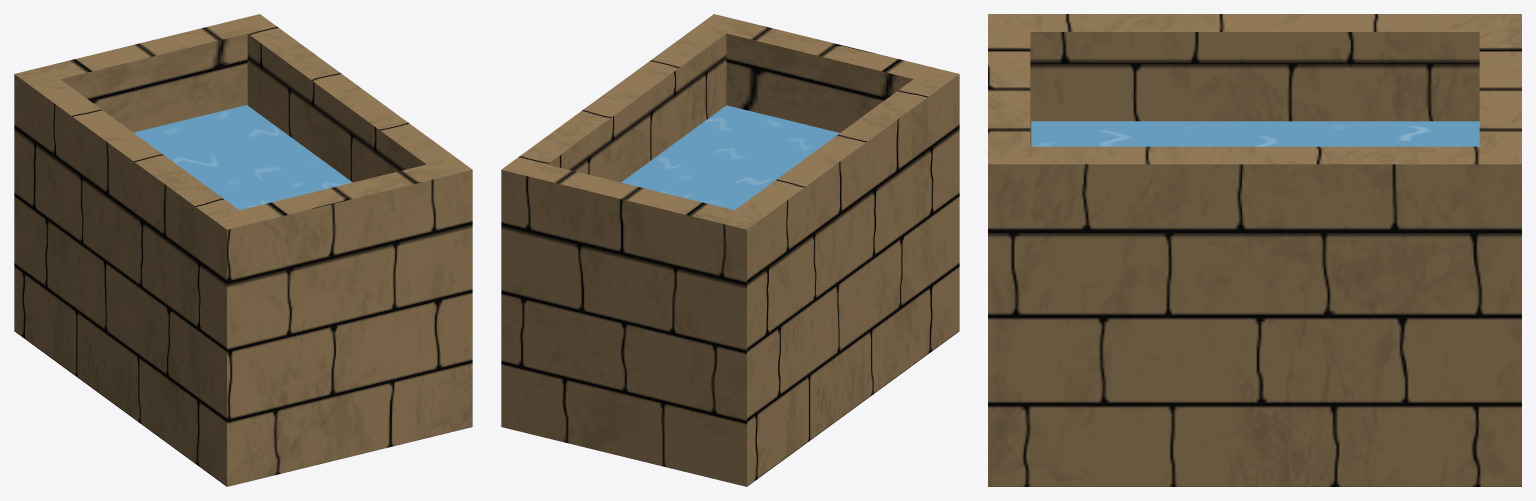
Rendered from Pila_total.fbx.
3 renders of one model, left to right at view 1: azimuth 30°, elevation 25°; view 2: azimuth 150°, elevation 25°; view 3: azimuth 270°, elevation 25°, orthographic. The views are drawn at different scales.
Parts seen in each view (by area): view 1: Box001, Plane001; view 2: Box001, Plane001; view 3: Box001, Plane001.
Part boxes in pixels (box(x1,y1,x2,y2)): Box001: box(14, 14, 472, 486); Plane001: box(134, 105, 352, 210); Box001: box(501, 14, 959, 486); Plane001: box(621, 105, 839, 210); Box001: box(988, 14, 1521, 486); Plane001: box(1031, 121, 1479, 146).
Bounding box in the file's own units: 0.5 × 0.5 × 0.75.
2 materials, 2 textured.
